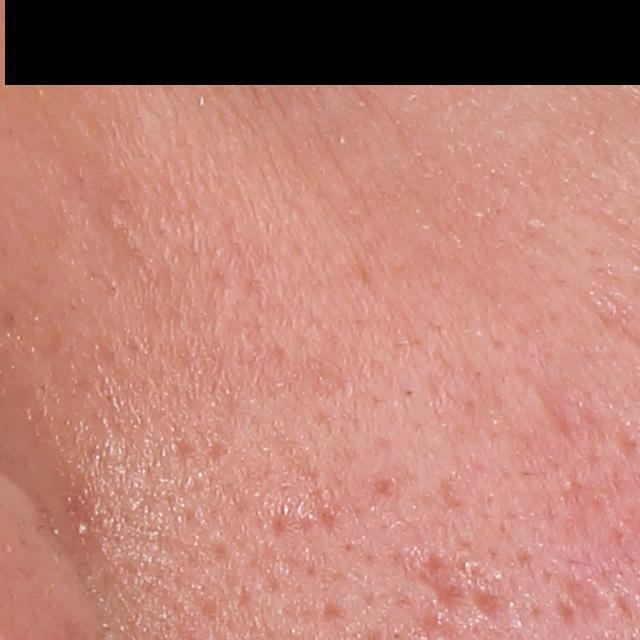atrophic_scar: (415, 550, 468, 618), (562, 570, 612, 625), (467, 586, 505, 624)
